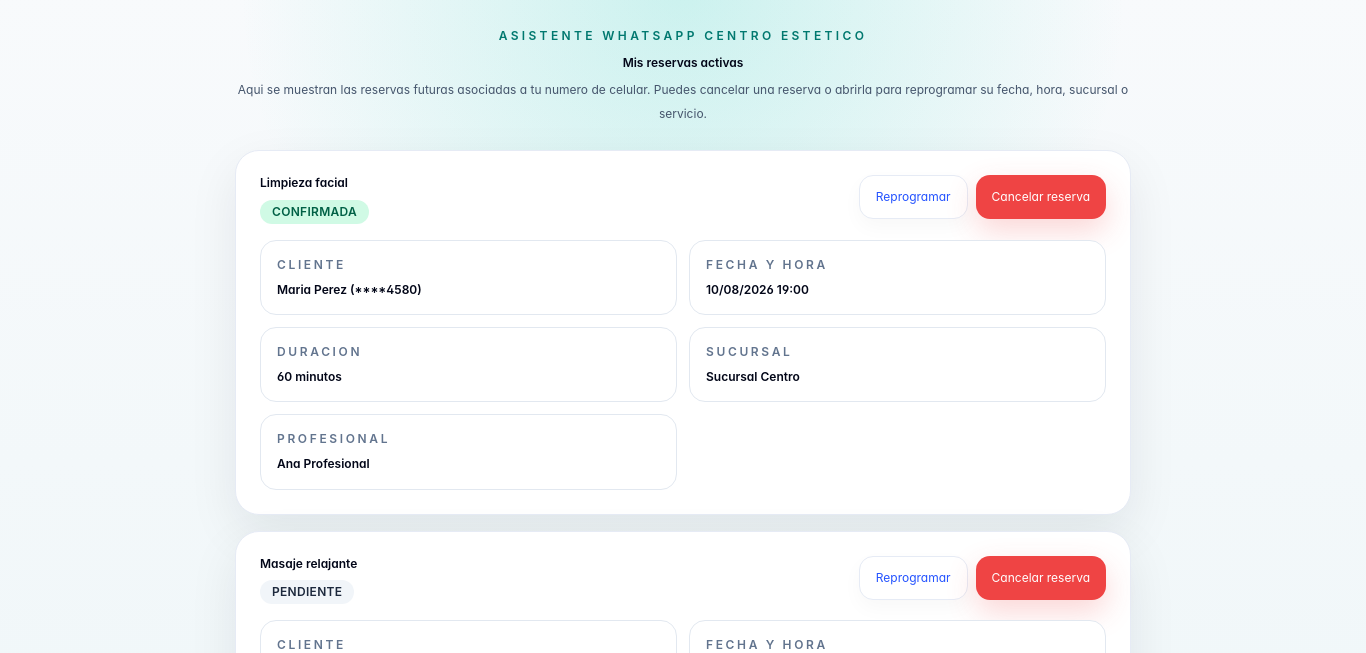
Scenario: CustomerBookingsPage › shows form below the selected booking card
This screenshot has width=1366, height=653.
Expected: the heading "Limpieza facial" is shown, [260, 175, 348, 190]
Expected: the heading "Masaje relajante" is shown, [260, 556, 357, 572]
Click the button "Reprogramar" in the row of "Confirmada" at {"x": 913, "y": 197}, box [859, 175, 968, 219]
(page scrolled)
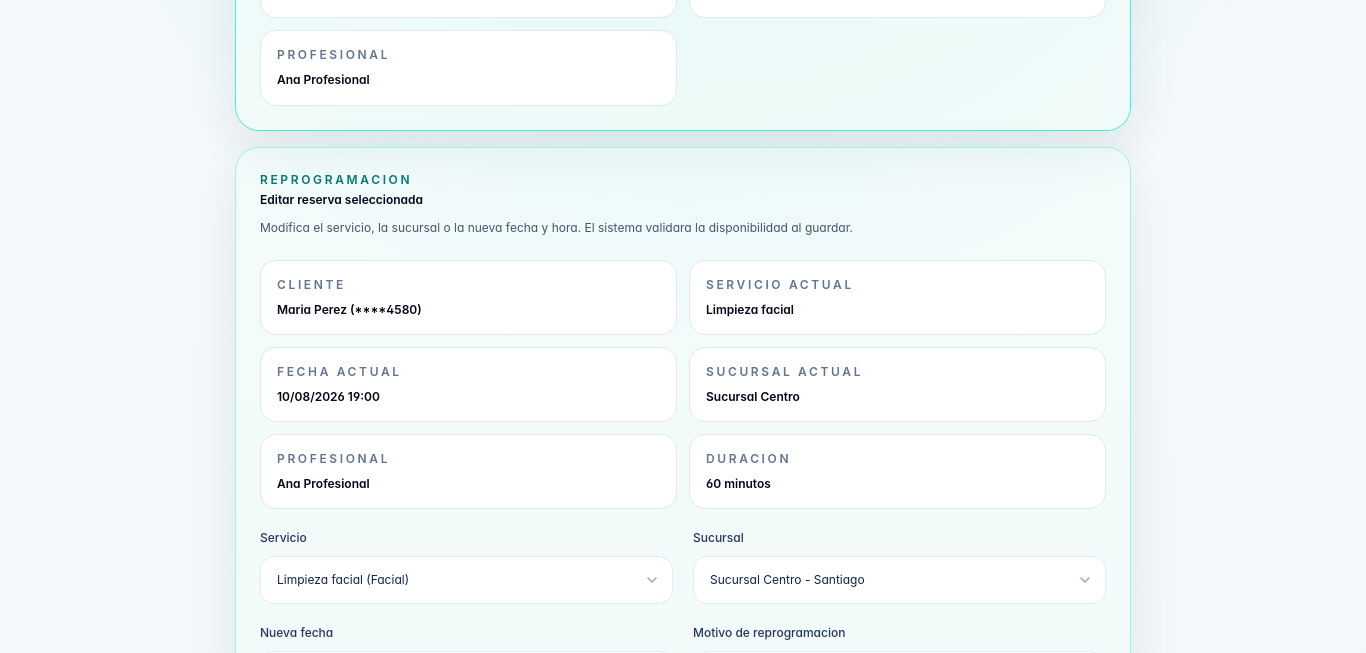
Now the heading "Editar reserva seleccionada" is shown, box [260, 192, 423, 207]
